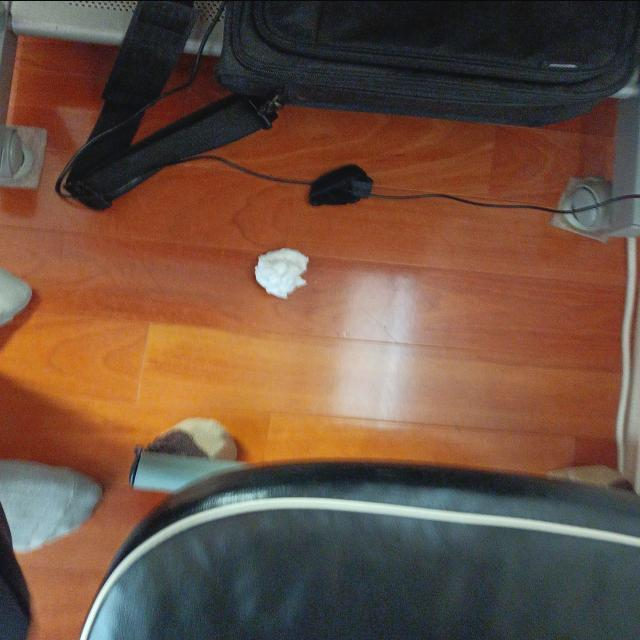Paper: (234, 234, 314, 290)
